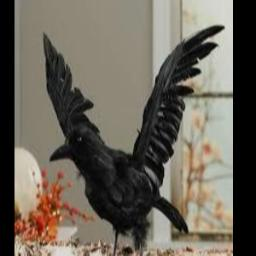Crow: (40, 23, 226, 256)
